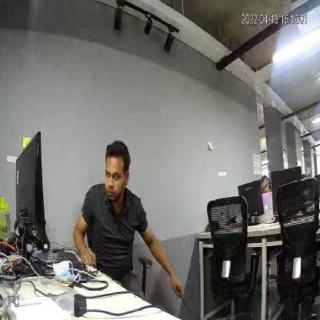knife: (178, 294, 194, 318)
